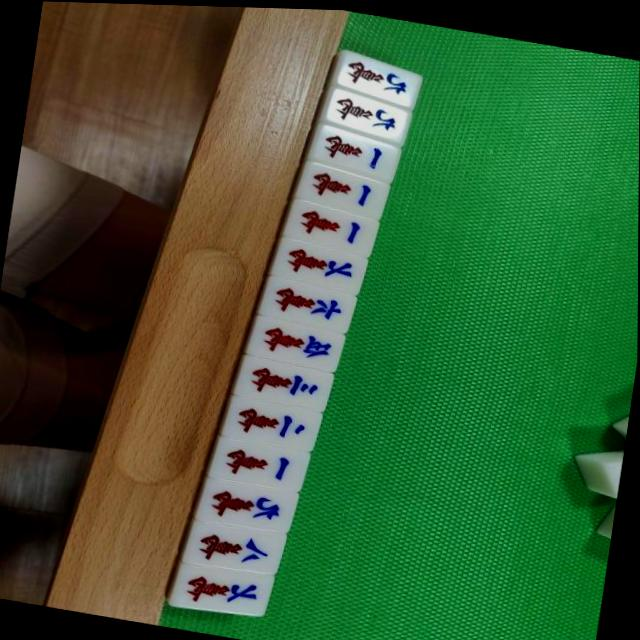sc1: (220, 441, 294, 486), (295, 205, 367, 246), (306, 168, 375, 209), (322, 131, 388, 171)
sc2: (232, 402, 311, 446)
sc3: (244, 361, 322, 404)
sc5: (257, 321, 336, 364)
sc6: (269, 283, 348, 326)
sc7: (179, 569, 265, 613), (282, 243, 361, 285)
sc8: (194, 525, 275, 570)
sc9: (208, 482, 286, 528), (339, 55, 414, 98), (329, 92, 402, 132)
